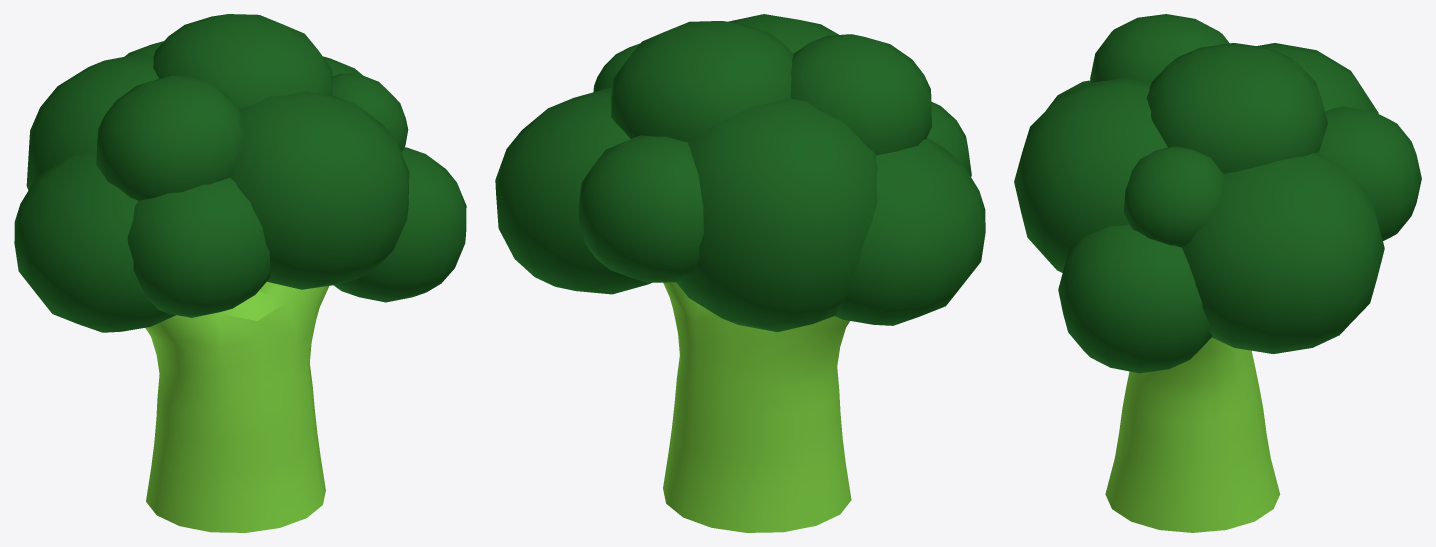
File: broccoli.glb
3 renders of one model, left to right at view 1: azimuth 30°, elevation 25°; view 2: azimuth 150°, elevation 25°; view 3: azimuth 270°, elevation 25°, orthographic. The views are drawn at different scales.
Visible parts, largest first — view 1: Circle.2199; view 2: Circle.2199; view 3: Circle.2199.
Part boxes in pixels (<box>): Circle.2199: <box>14,14,466,532</box>; Circle.2199: <box>495,14,985,532</box>; Circle.2199: <box>1014,14,1421,532</box>.
Size of the model in its own units: 2.11 by 2.28 by 1.87.
Materials: 1 (1 with a texture image).
